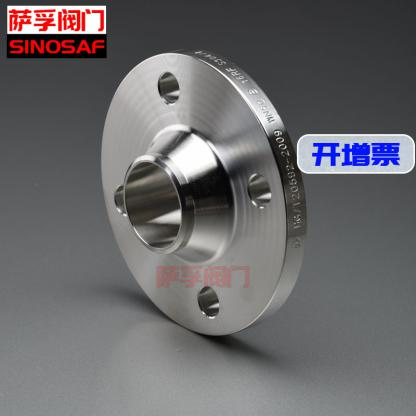FOD: (94, 44, 311, 344)
